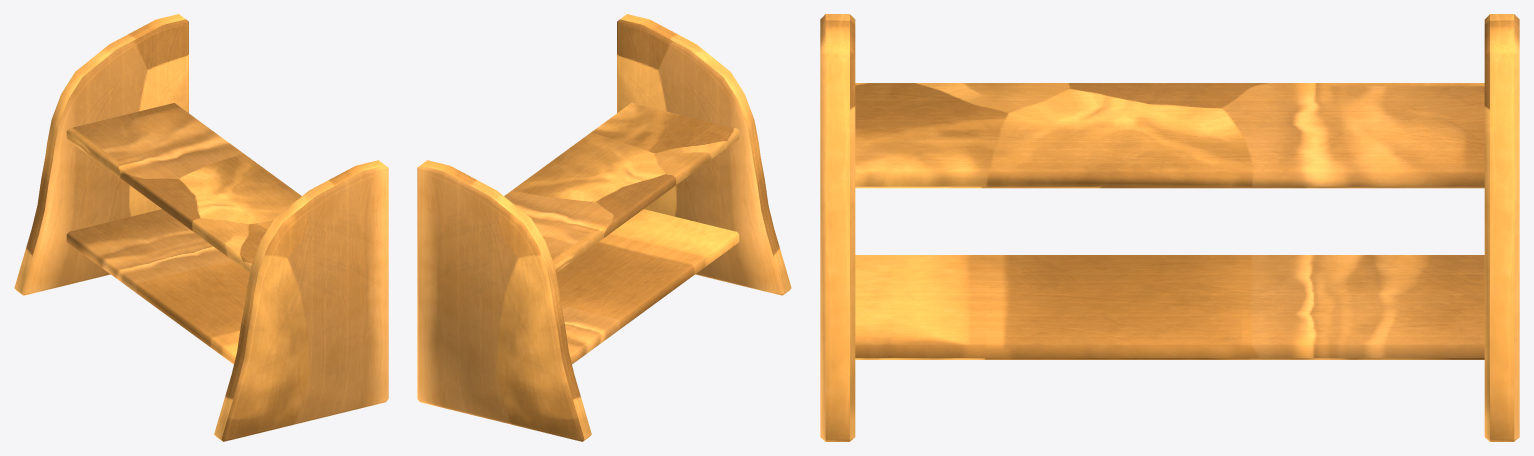
The model's file is SM_Shelf_2.fbx.
3 renders of one model, left to right at view 1: azimuth 30°, elevation 25°; view 2: azimuth 150°, elevation 25°; view 3: azimuth 270°, elevation 25°, orthographic. The views are drawn at different scales.
Visible parts, largest first — view 1: SM_Shelf_2_LOD0; view 2: SM_Shelf_2_LOD0; view 3: SM_Shelf_2_LOD0.
Boxes of the visible parts, x1,y1,x2,y2 form: SM_Shelf_2_LOD0: [14, 14, 388, 441]; SM_Shelf_2_LOD0: [417, 14, 791, 441]; SM_Shelf_2_LOD0: [820, 14, 1519, 441].
Size of the model in its own units: 35.49 by 77.3 by 48.02.
